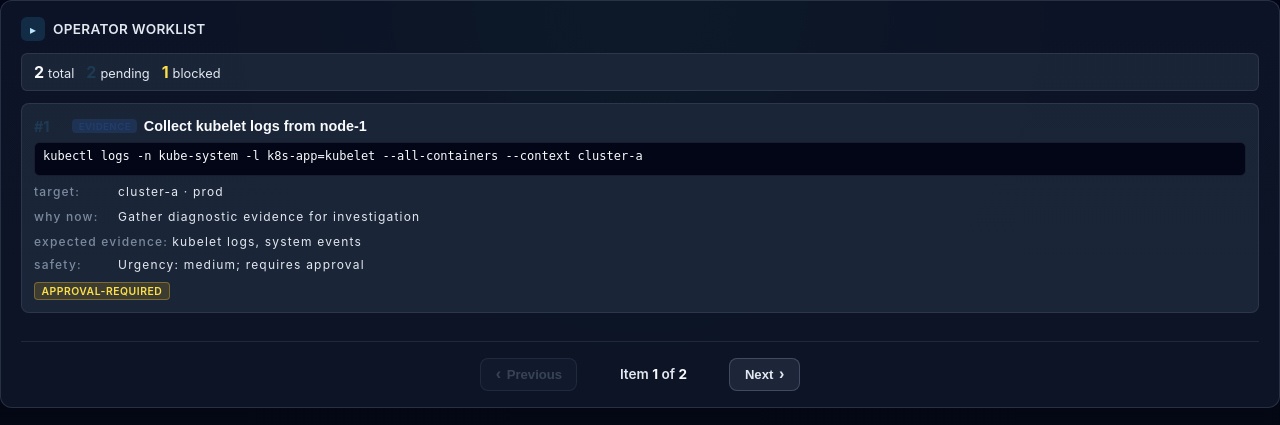
Test case: Regression: Approval-needed item rendering › Approved item shows approved state badge separately
# Navigate to page 2 to see the approved item
Click the button with aria-label "worklist next page": (765, 374) [730,358,800,391]
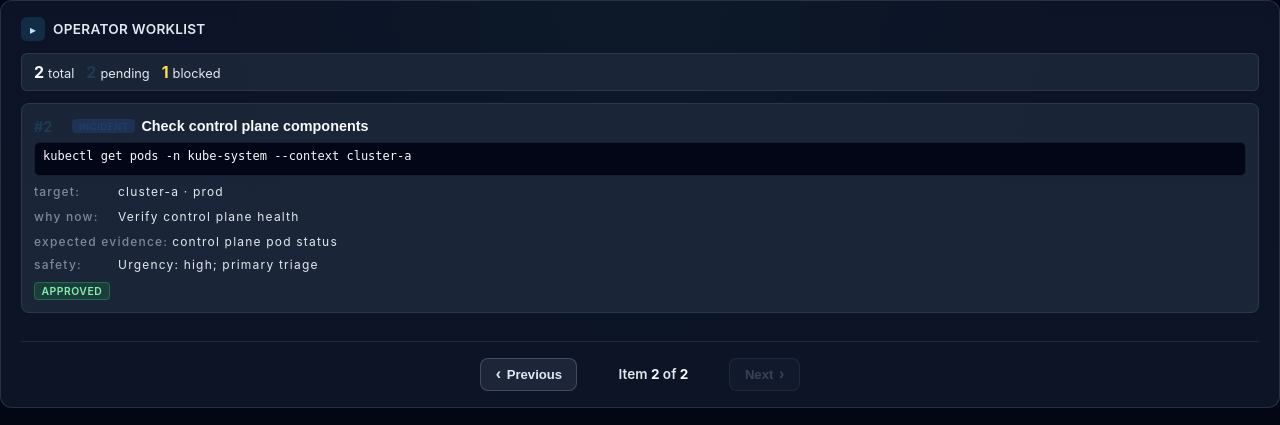
Check: the text "approved" is shown, box [34,282,110,300]
